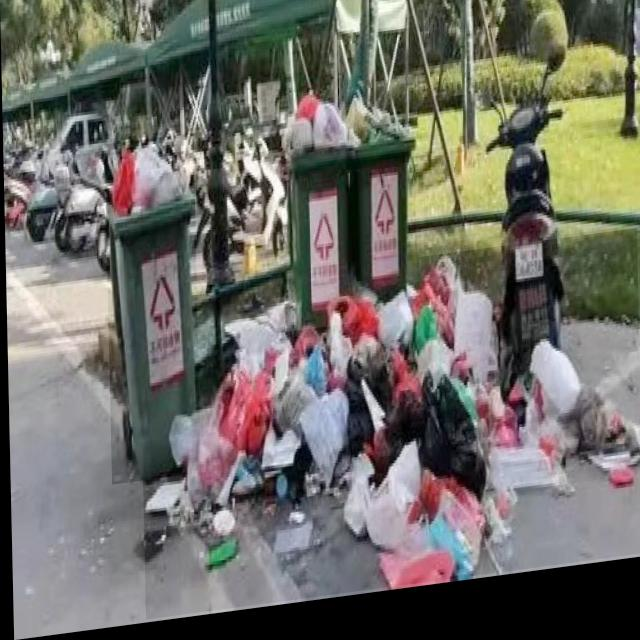garbage: (138, 246, 640, 623)
overflow: (104, 138, 199, 487), (279, 95, 355, 340), (345, 94, 417, 314)
